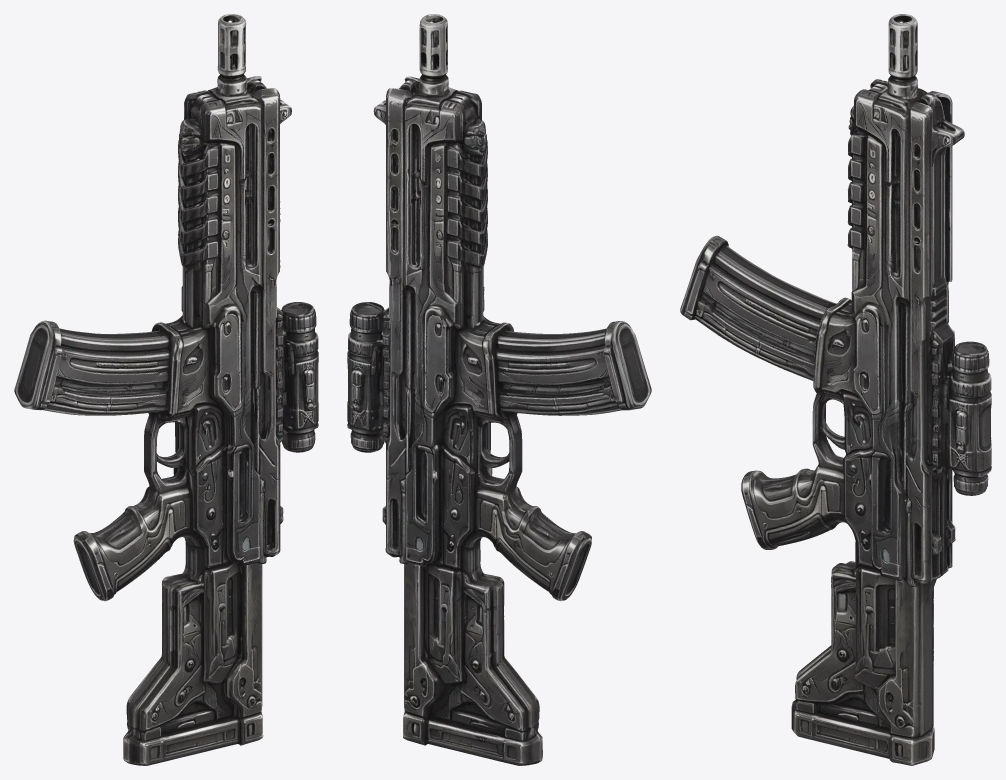
Rendered from gaykaweaponmodel.glb.
The picture shows the model from 3 angles, left to right: view 1: azimuth 30°, elevation 25°; view 2: azimuth 150°, elevation 25°; view 3: azimuth 330°, elevation 25°; orthographic projection. The views are drawn at different scales.
Parts seen in each view (by area): view 1: mesh_node; view 2: mesh_node; view 3: mesh_node.
Boxes of the visible parts, box(x1,y1,x2,y2) form: mesh_node: box(14, 14, 318, 765); mesh_node: box(347, 14, 651, 765); mesh_node: box(680, 14, 991, 765).
Size of the model in its own units: 0.8126 by 1.9 by 0.1614.
Materials: 1 (1 with a texture image).
